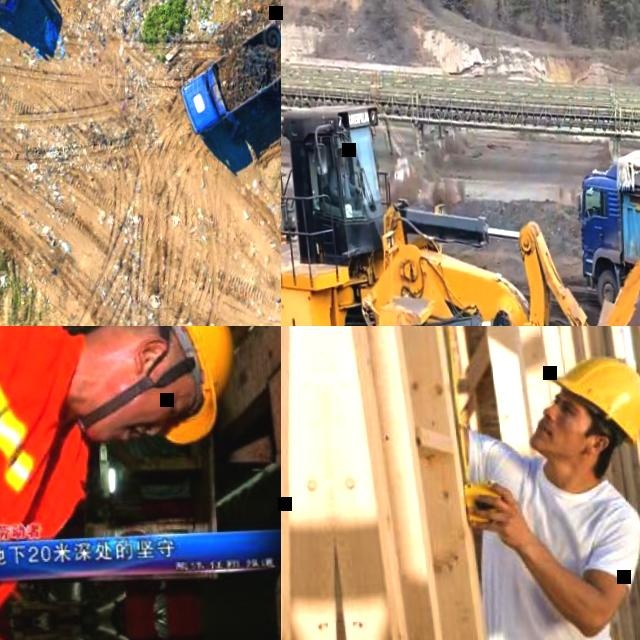Hardhat: (104, 326, 240, 448), (538, 350, 640, 452)
NO-Mask: (80, 348, 150, 447), (524, 414, 578, 457)
NO-Safety Vest: (461, 423, 629, 640), (334, 167, 350, 199)
Person: (0, 326, 251, 595), (434, 326, 640, 640), (329, 155, 362, 201)
Safety Vest: (0, 339, 85, 592)
machinery: (281, 76, 640, 326), (172, 12, 281, 143), (574, 134, 640, 326)
